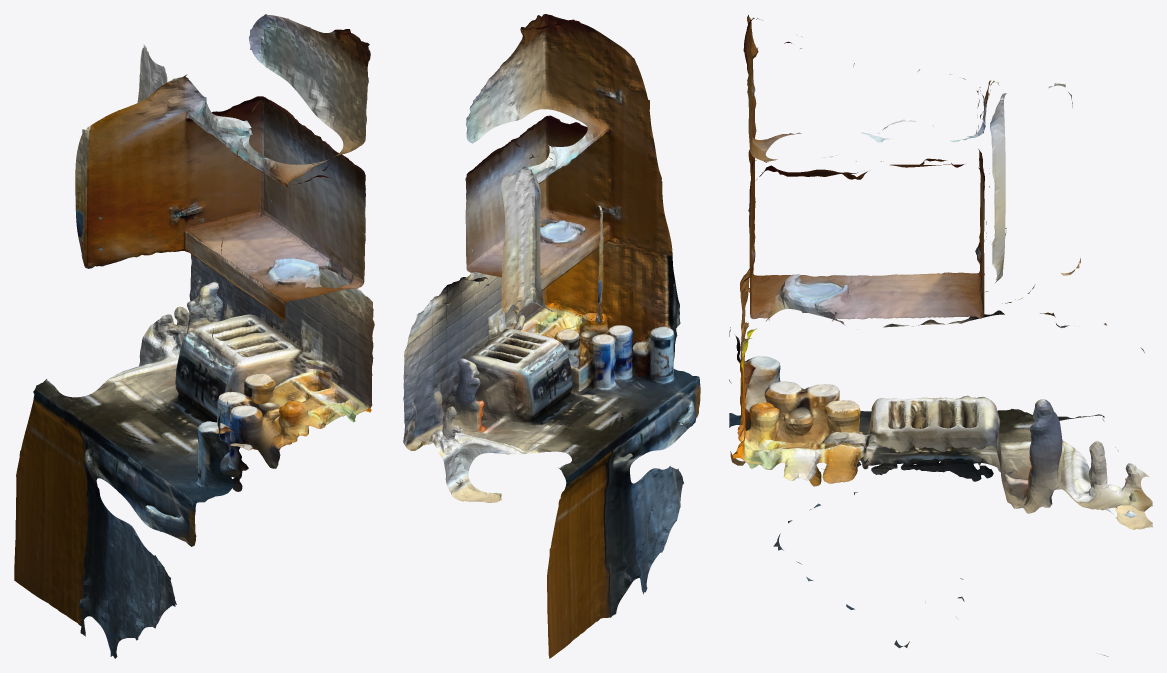
Rendered from cabinet_1.glb.
3 renders of one model, left to right at view 1: azimuth 30°, elevation 25°; view 2: azimuth 150°, elevation 25°; view 3: azimuth 270°, elevation 25°, orthographic. The views are drawn at different scales.
Size of the model in its own units: 0.6652 by 1.94 by 1.04.
1 material, 1 textured.
